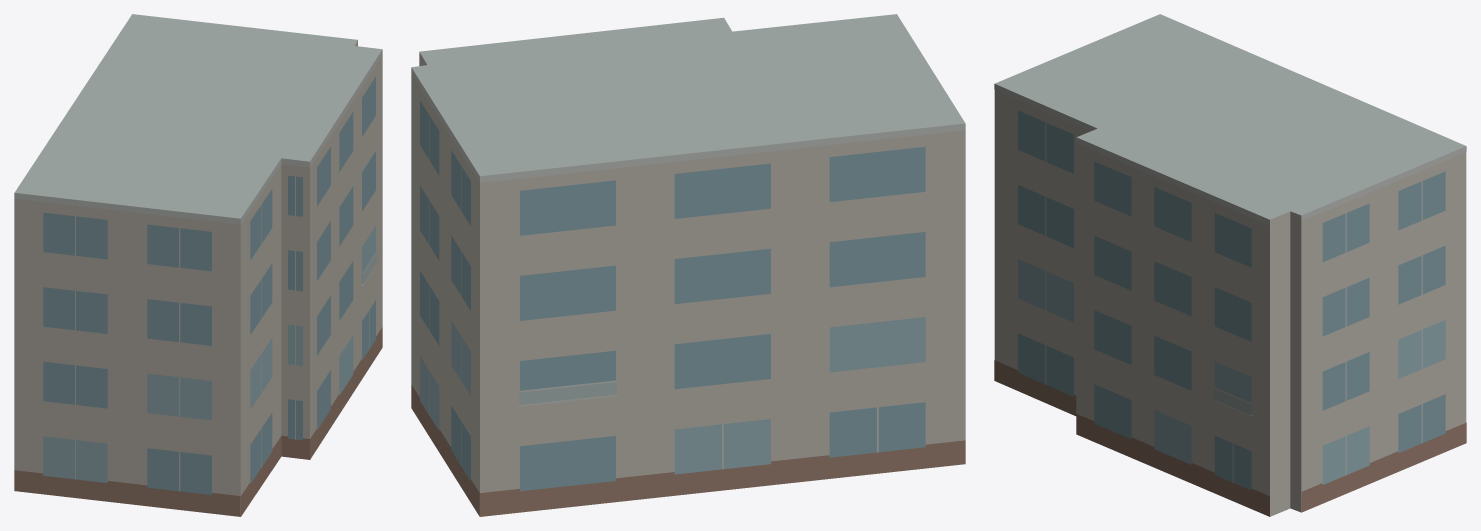
Rendered from survey-upis-32497621.glb.
The picture shows the model from 3 angles, left to right: view 1: azimuth 30°, elevation 25°; view 2: azimuth 150°, elevation 25°; view 3: azimuth 270°, elevation 25°; orthographic projection. The views are drawn at different scales.
Parts seen in each view (by area): view 1: survey-upis-32497621.tmp; view 2: survey-upis-32497621.tmp; view 3: survey-upis-32497621.tmp.
Part boxes in pixels (x1,y1,x2,y2): survey-upis-32497621.tmp: (14,14,382,516); survey-upis-32497621.tmp: (411,14,965,516); survey-upis-32497621.tmp: (994,14,1466,516).
Size of the model in its own units: 18.13 by 12.2 by 17.57.
